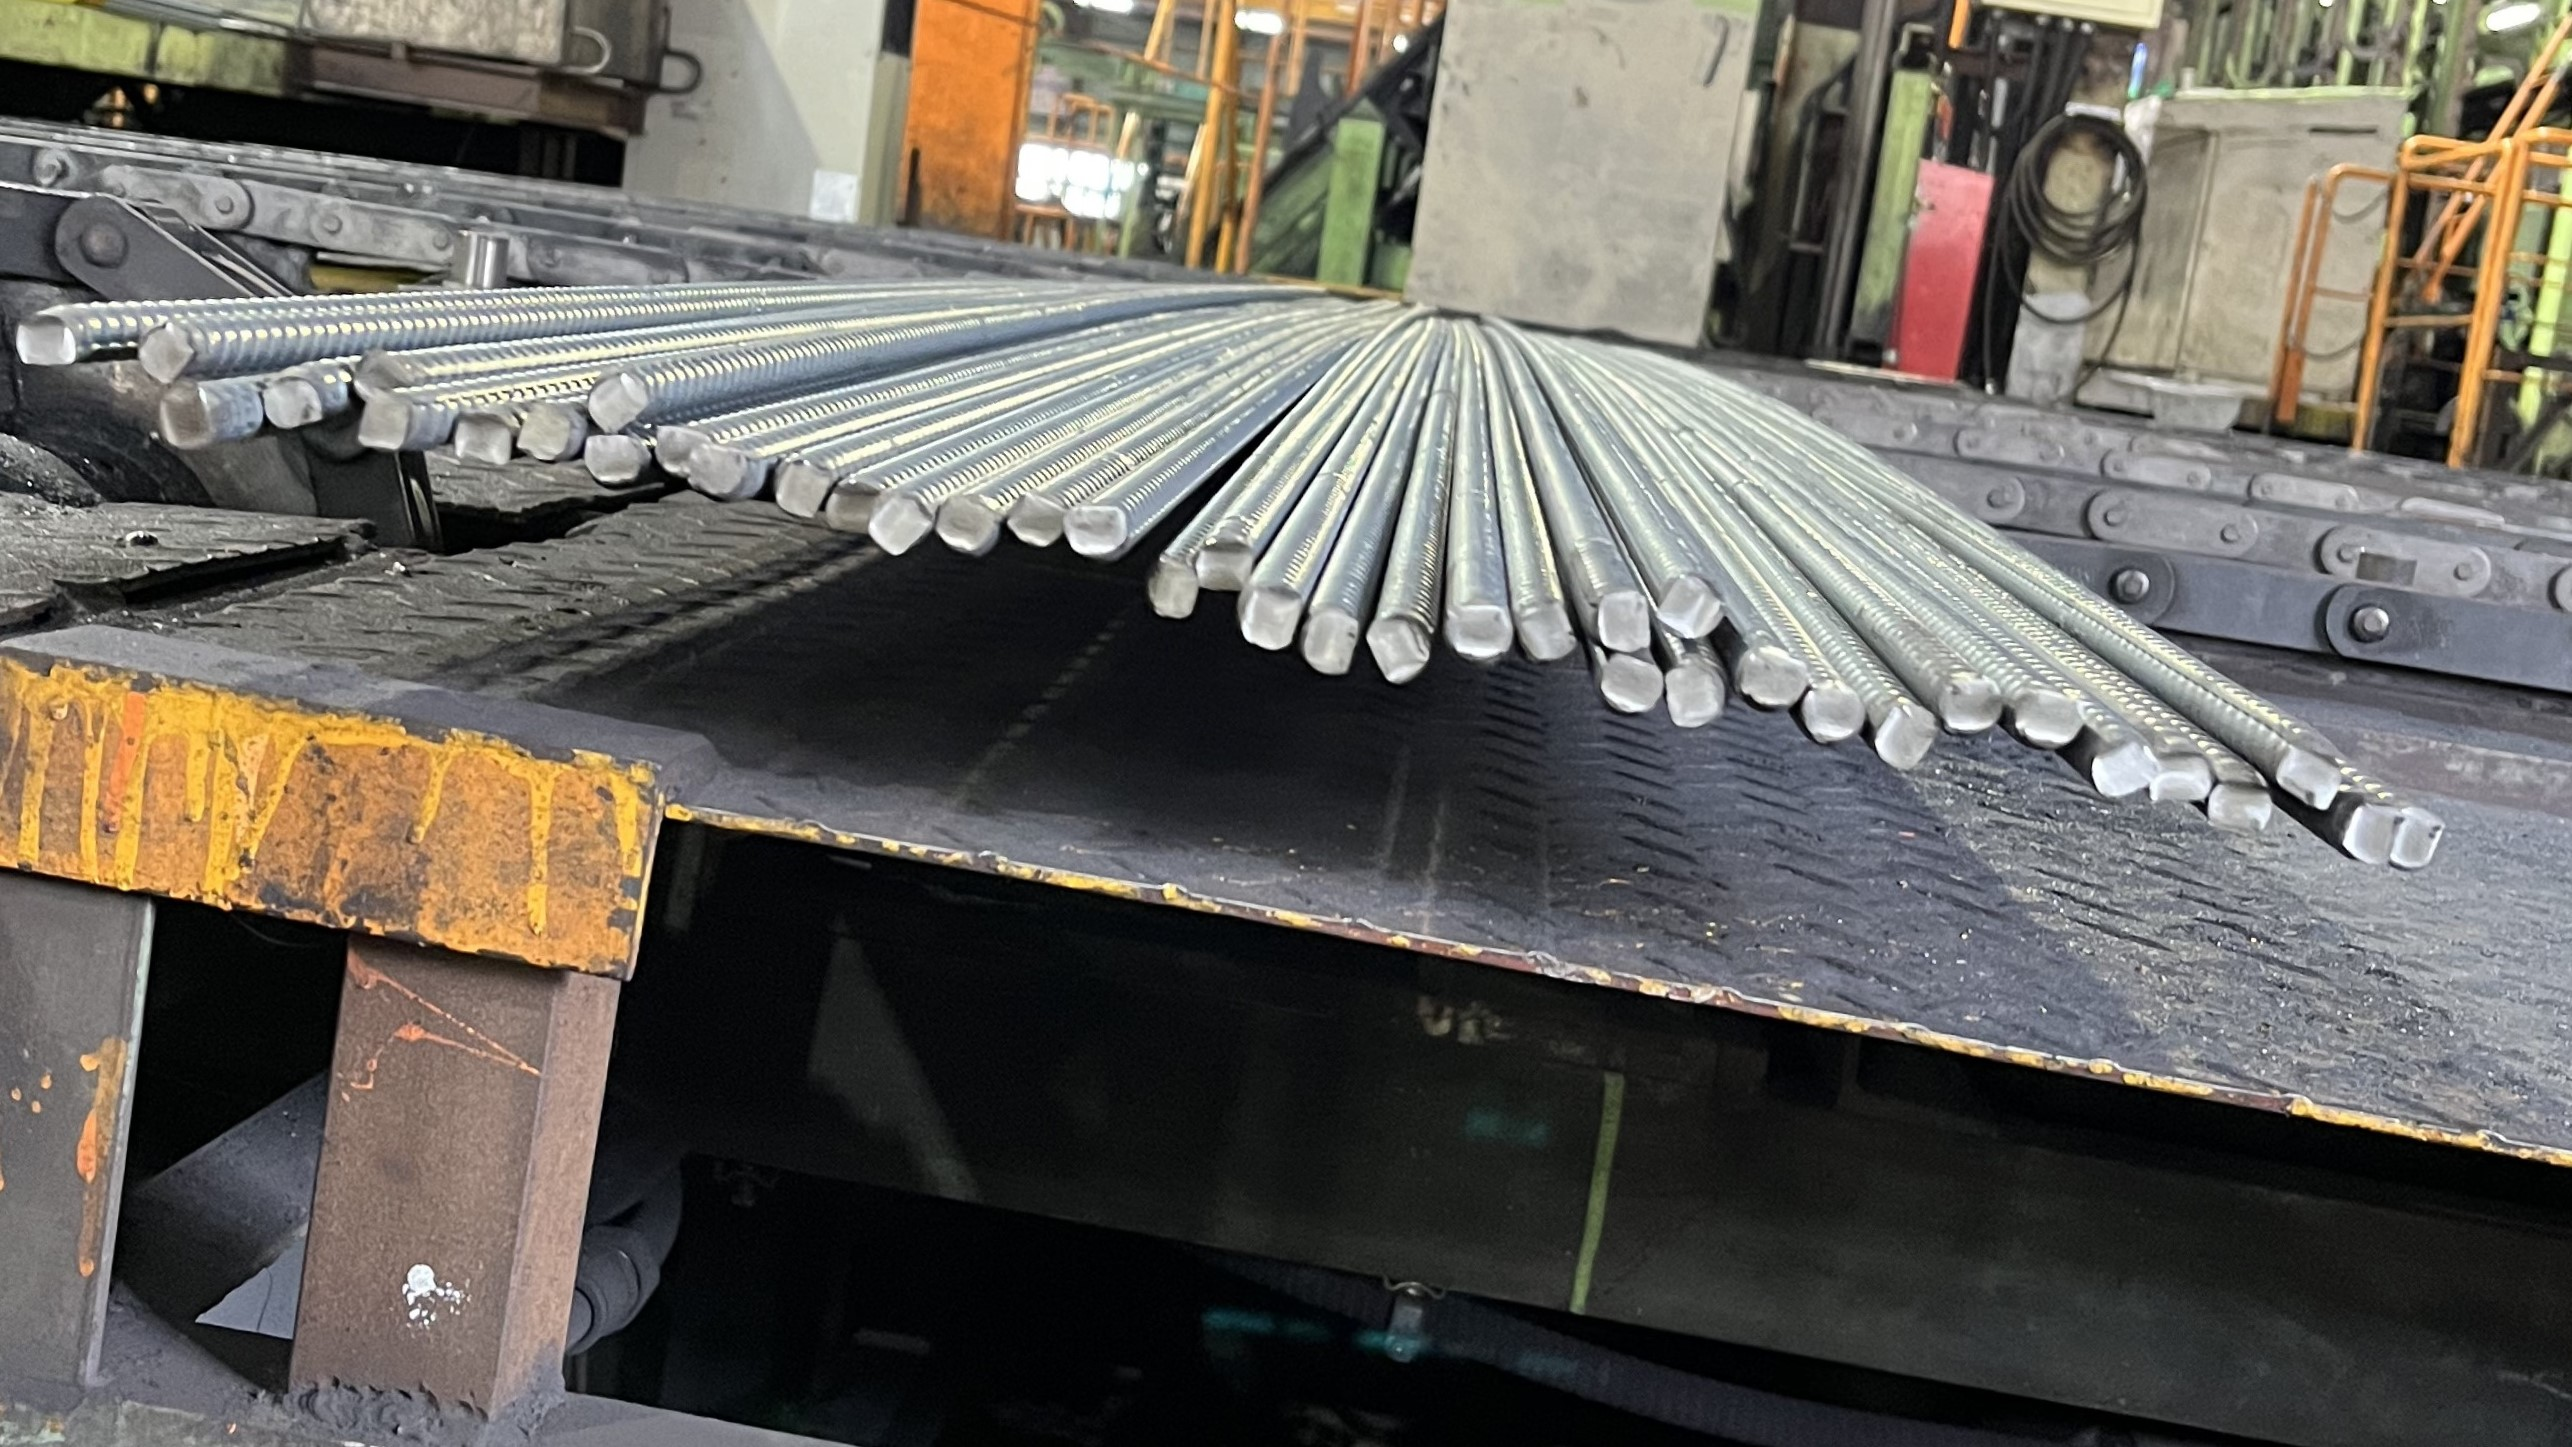rod: (2273, 744, 2349, 813), (1872, 700, 1943, 772), (1364, 611, 1433, 686), (1653, 571, 1728, 640), (1664, 655, 1728, 731), (1735, 648, 1811, 712), (866, 489, 936, 557), (1237, 580, 1304, 650), (1441, 602, 1514, 668), (11, 307, 81, 373), (2010, 687, 2084, 749), (131, 320, 198, 387), (1938, 668, 2003, 737), (154, 382, 217, 452), (1595, 654, 1666, 717), (2090, 739, 2162, 800), (1800, 680, 1867, 746), (933, 491, 1002, 555), (1298, 608, 1360, 678), (2146, 744, 2219, 802), (585, 369, 650, 433), (1593, 587, 1655, 654), (2339, 799, 2402, 862), (1517, 599, 1577, 664), (260, 375, 327, 433), (352, 392, 415, 452), (685, 440, 751, 498), (1062, 502, 1129, 558), (516, 399, 576, 461), (1005, 488, 1065, 549), (581, 429, 647, 486), (2392, 802, 2448, 867), (1145, 553, 1199, 620), (450, 410, 512, 468), (1192, 532, 1251, 594), (823, 481, 890, 534), (2205, 777, 2273, 829), (774, 458, 828, 519), (350, 346, 406, 403), (652, 420, 708, 475)
